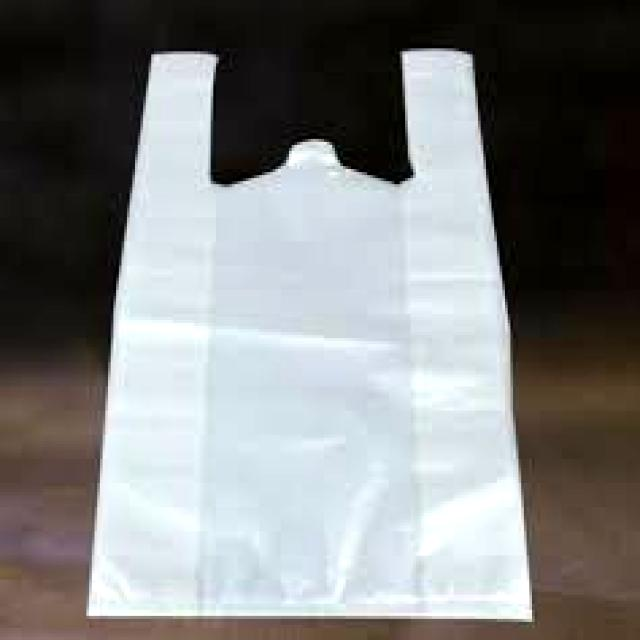Plastic: (89, 53, 535, 620)
